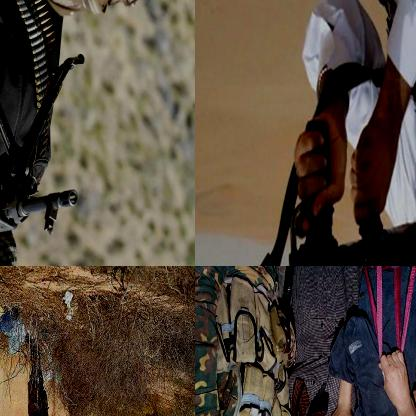rifle: (195, 120, 415, 265), (0, 32, 90, 265)
